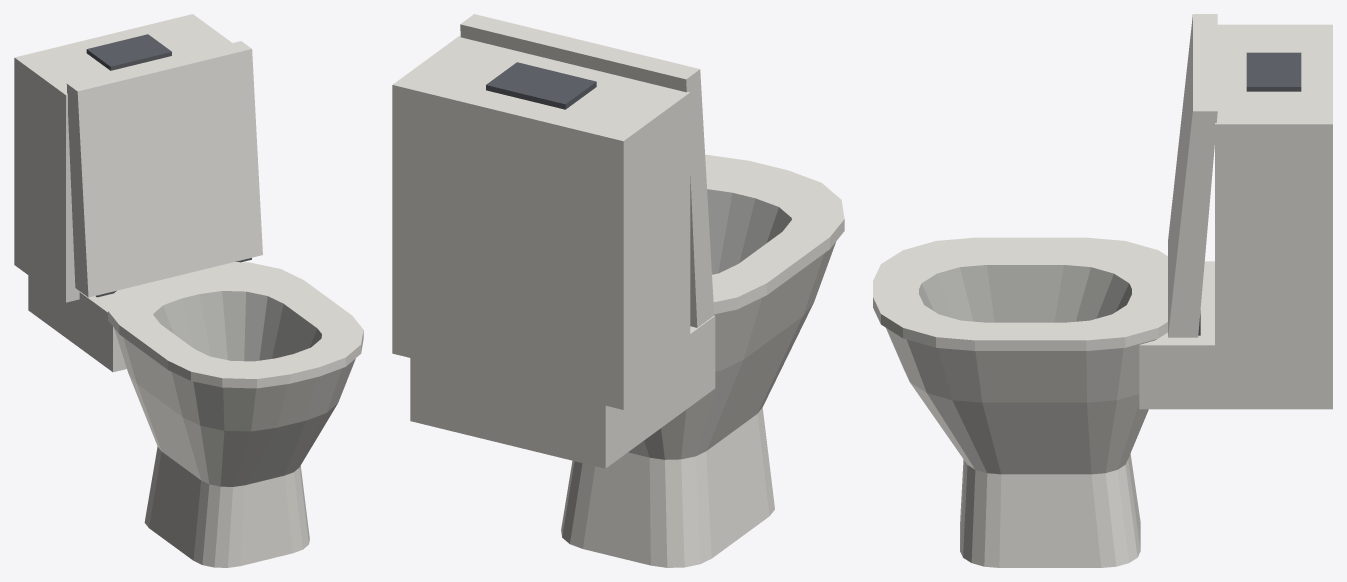
File: FN_Toilet_Close.glb
3 views of the same model, side by side, from view 1: azimuth 30°, elevation 25°; view 2: azimuth 150°, elevation 25°; view 3: azimuth 270°, elevation 25° (orthographic). The views are drawn at different scales.
Visible parts, largest first — view 1: FN_Toilet_Close; view 2: FN_Toilet_Close; view 3: FN_Toilet_Close.
Boxes of the visible parts, x1,y1,x2,y2 form: FN_Toilet_Close: (14, 14, 363, 567); FN_Toilet_Close: (392, 14, 844, 567); FN_Toilet_Close: (873, 14, 1332, 567).
Bounding box in the file's own units: 0.372 × 0.8 × 0.703.
Materials: 1 (1 with a texture image).
